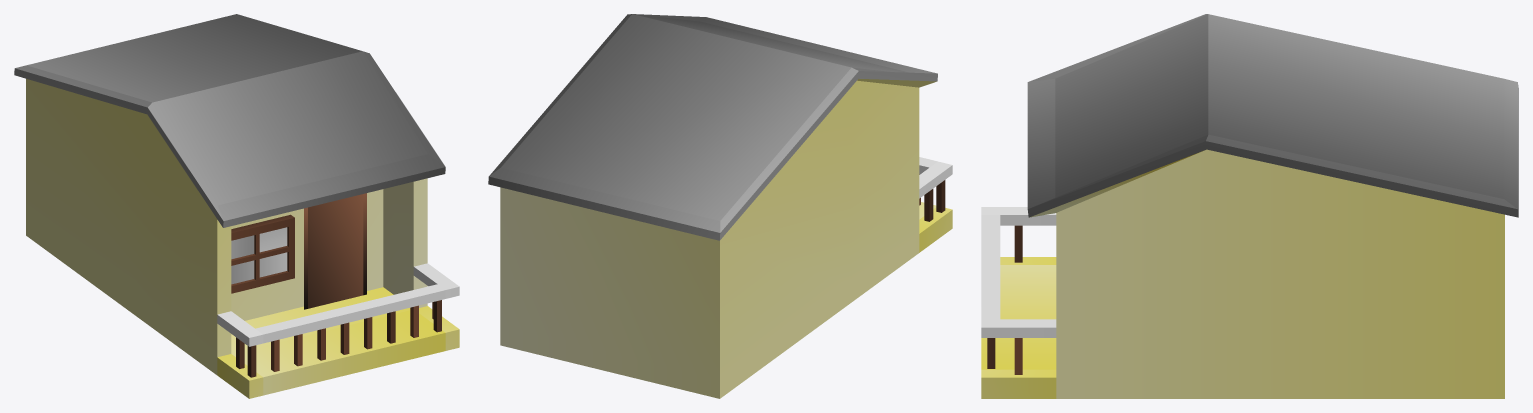
File: SM_Steet_House_F2_open_V2.fbx
The picture shows the model from 3 angles, left to right: view 1: azimuth 30°, elevation 25°; view 2: azimuth 150°, elevation 25°; view 3: azimuth 270°, elevation 25°; orthographic projection. The views are drawn at different scales.
Parts seen in each view (by area): view 1: Steet_House_F2_open_V2_mash.001; view 2: Steet_House_F2_open_V2_mash.001; view 3: Steet_House_F2_open_V2_mash.001.
Part boxes in pixels (<box>): Steet_House_F2_open_V2_mash.001: <box>14,14,459,398</box>; Steet_House_F2_open_V2_mash.001: <box>488,14,952,398</box>; Steet_House_F2_open_V2_mash.001: <box>981,14,1518,398</box>.
Bounding box in the file's own units: 4.22 × 4.09 × 7.54.
